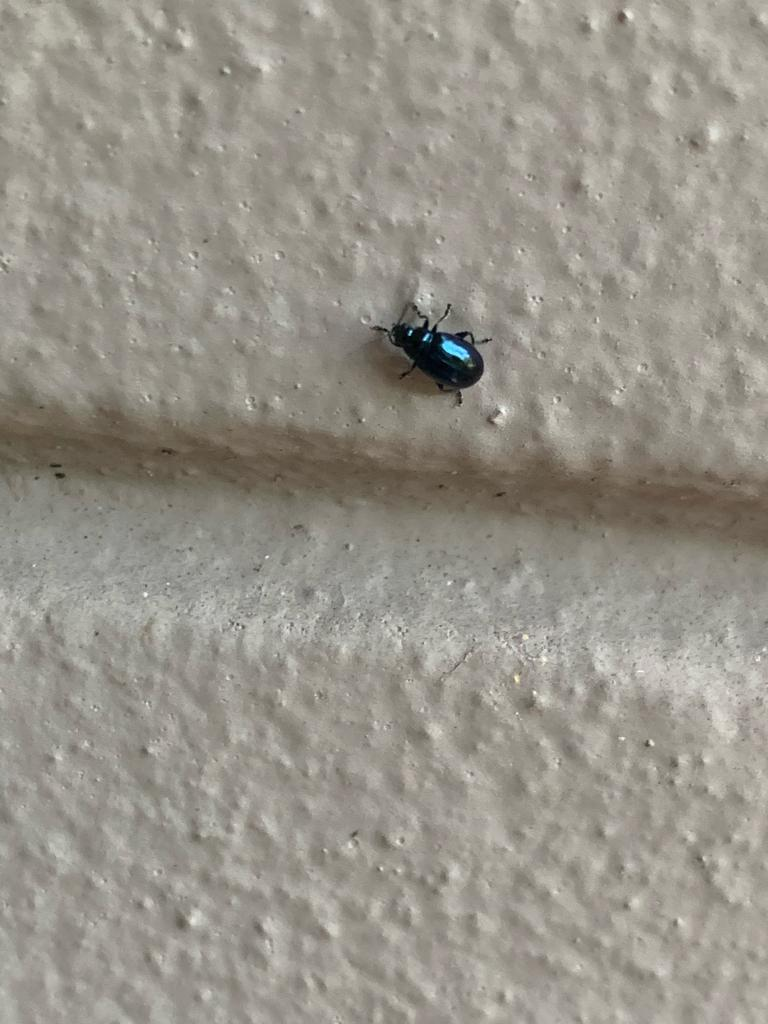flea_beetle: (332, 257, 520, 436)
